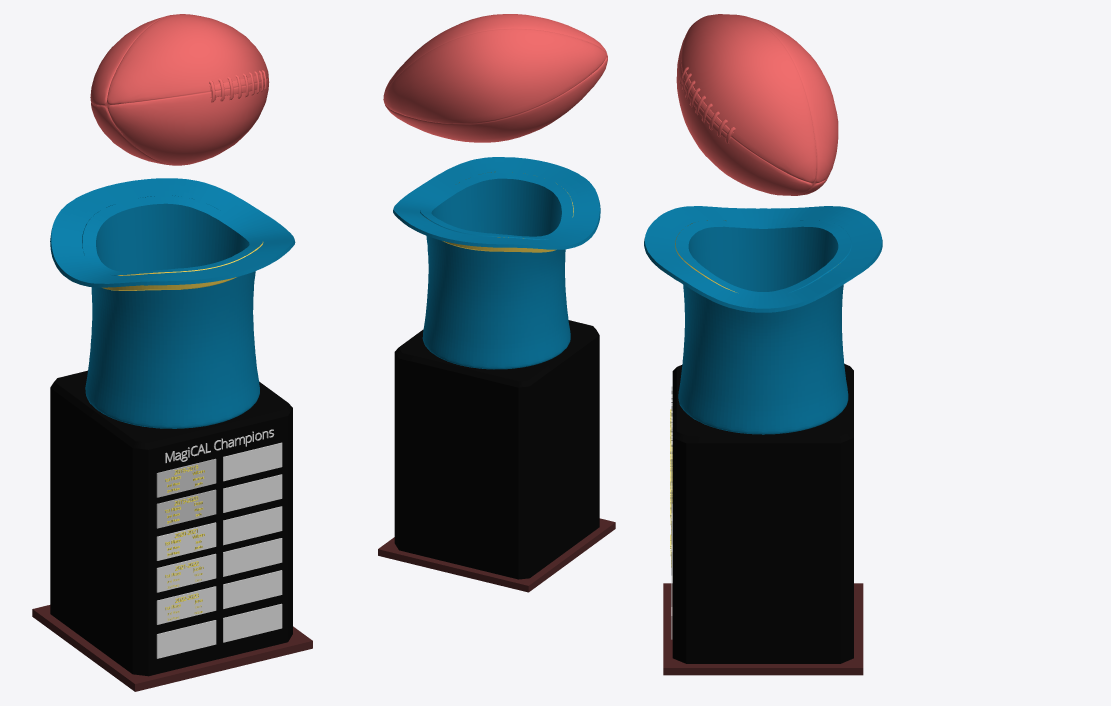
Rendered from Trophy9.glb.
3 views of the same model, side by side, from view 1: azimuth 30°, elevation 25°; view 2: azimuth 150°, elevation 25°; view 3: azimuth 270°, elevation 25° (orthographic). The views are drawn at different scales.
Parts seen in each view (by area): view 1: Buffer_Layer, Box_1_-_baked, football, Box, Box_6, Box_10, Box_8, Box_7, Box_9, Box_3, Box_11, Box_12 (+5 smaller); view 2: Box_1_-_baked, Buffer_Layer, football, Box, 179_Buffer_Layer; view 3: Box_1_-_baked, Buffer_Layer, football, Box.
Part boxes in pixels (x1,y1,x2,y2): Buffer_Layer: (50, 178, 295, 428); Box_1_-_baked: (50, 370, 292, 676); football: (90, 14, 269, 165); Box: (32, 605, 312, 691); Box_6: (156, 620, 216, 658); Box_10: (223, 506, 282, 545); Box_8: (223, 570, 282, 608); Box_7: (223, 603, 282, 642); Box_9: (223, 538, 282, 576); Box_3: (156, 553, 216, 592); Box_11: (223, 474, 282, 512); Box_12: (223, 442, 282, 481); Box_1_-_baked: (394, 320, 599, 579); Buffer_Layer: (393, 157, 600, 369); football: (383, 14, 607, 142); Box: (378, 518, 615, 592); 179_Buffer_Layer: (443, 171, 573, 252); Box_1_-_baked: (672, 364, 853, 663); Buffer_Layer: (644, 206, 882, 434); football: (676, 14, 838, 195); Box: (663, 583, 863, 675).
Size of the model in its own units: 0.81 by 2.41 by 1.52.
